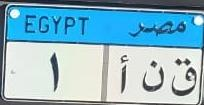1: (45, 49, 62, 93)
alif: (116, 51, 132, 95)
noon: (139, 57, 166, 95)
qaaf: (169, 52, 199, 96)
